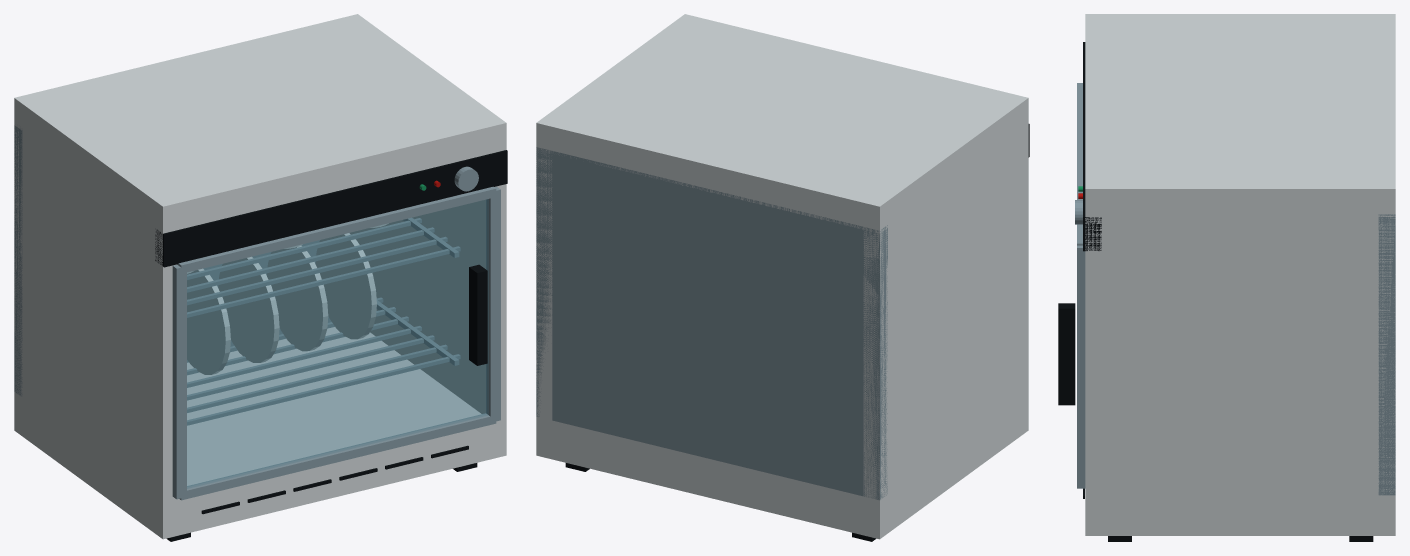
The model's file is dish_dryer.dae.
The picture shows the model from 3 angles, left to right: view 1: azimuth 30°, elevation 25°; view 2: azimuth 150°, elevation 25°; view 3: azimuth 270°, elevation 25°; orthographic projection. The views are drawn at different scales.
Parts seen in each view (by area): view 1: glass_door, roof, side (×2), base, door_frame (×4), rack_bar (×9), control_strip, plate_4, plate_2, plate_3, plate_1, back (+2 smaller); view 2: back, roof, side (×2), base; view 3: side, roof, base, back, door_frame (×2), door_handle, control_strip.
Part boxes in pixels (x1=…): glass_door: x1=187, y1=199, x2=488, y2=488; roof: x1=14, y1=14, x2=506, y2=232; side (×2): x1=14, y1=123, x2=506, y2=500; base: x1=14, y1=327, x2=506, y2=539; door_frame (×4): x1=172, y1=186, x2=500, y2=500; rack_bar (×9): x1=187, y1=218, x2=460, y2=425; control_strip: x1=155, y1=150, x2=507, y2=267; plate_4: x1=315, y1=233, x2=376, y2=339; plate_2: x1=218, y1=257, x2=279, y2=362; plate_3: x1=267, y1=245, x2=328, y2=351; plate_1: x1=187, y1=268, x2=230, y2=374; back: x1=14, y1=125, x2=349, y2=396; back: x1=536, y1=147, x2=887, y2=500; roof: x1=536, y1=14, x2=1028, y2=233; side (×2): x1=536, y1=122, x2=1028, y2=499; base: x1=536, y1=392, x2=1028, y2=539; side: x1=1085, y1=214, x2=1395, y2=495; roof: x1=1085, y1=14, x2=1395, y2=216; base: x1=1085, y1=495, x2=1395, y2=535; back: x1=1378, y1=214, x2=1395, y2=495; door_frame (×2): x1=1077, y1=83, x2=1085, y2=488; door_handle: x1=1058, y1=303, x2=1075, y2=405; control_strip: x1=1083, y1=42, x2=1101, y2=251.
Size of the model in its own units: 600 by 490 by 580.
